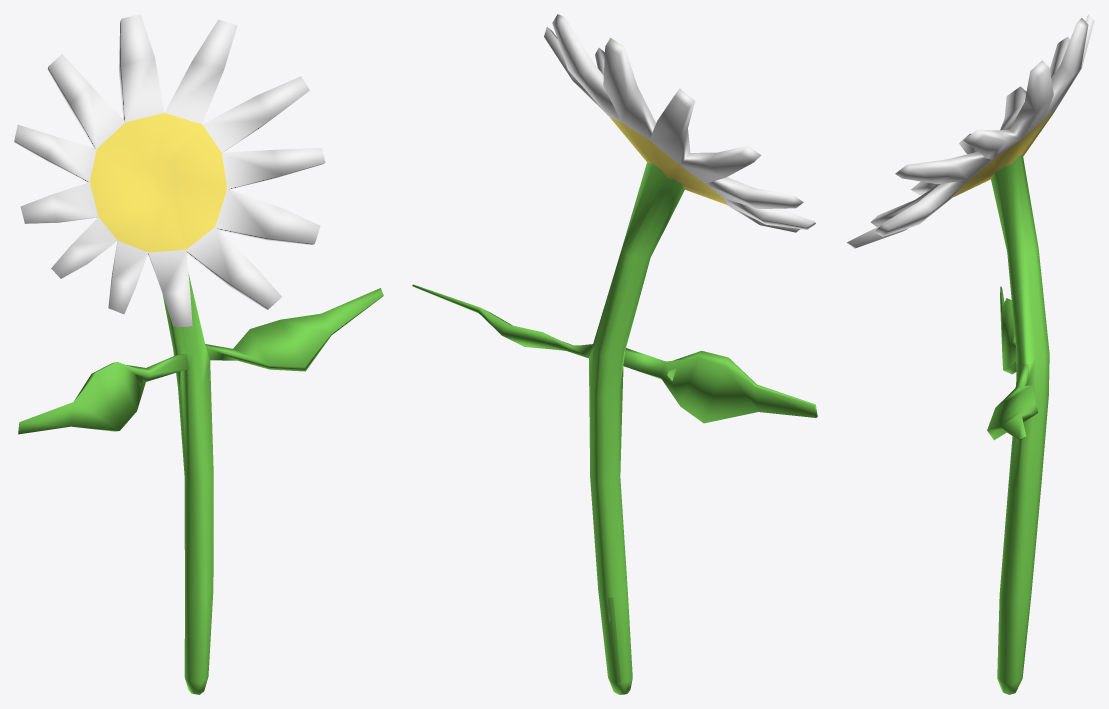
File: Flor_002_LOD.fbx
3 renders of one model, left to right at view 1: azimuth 30°, elevation 25°; view 2: azimuth 150°, elevation 25°; view 3: azimuth 270°, elevation 25°, orthographic. The views are drawn at different scales.
Visible parts, largest first — view 1: Flor_002_LOD0; view 2: Flor_002_LOD0; view 3: Flor_002_LOD0.
Part boxes in pixels (bbox=[...]): Flor_002_LOD0: bbox=[14, 14, 383, 694]; Flor_002_LOD0: bbox=[412, 14, 817, 694]; Flor_002_LOD0: bbox=[846, 14, 1094, 694].
Size of what is drawn, in the model's own units: 110 by 185 by 63.04.
